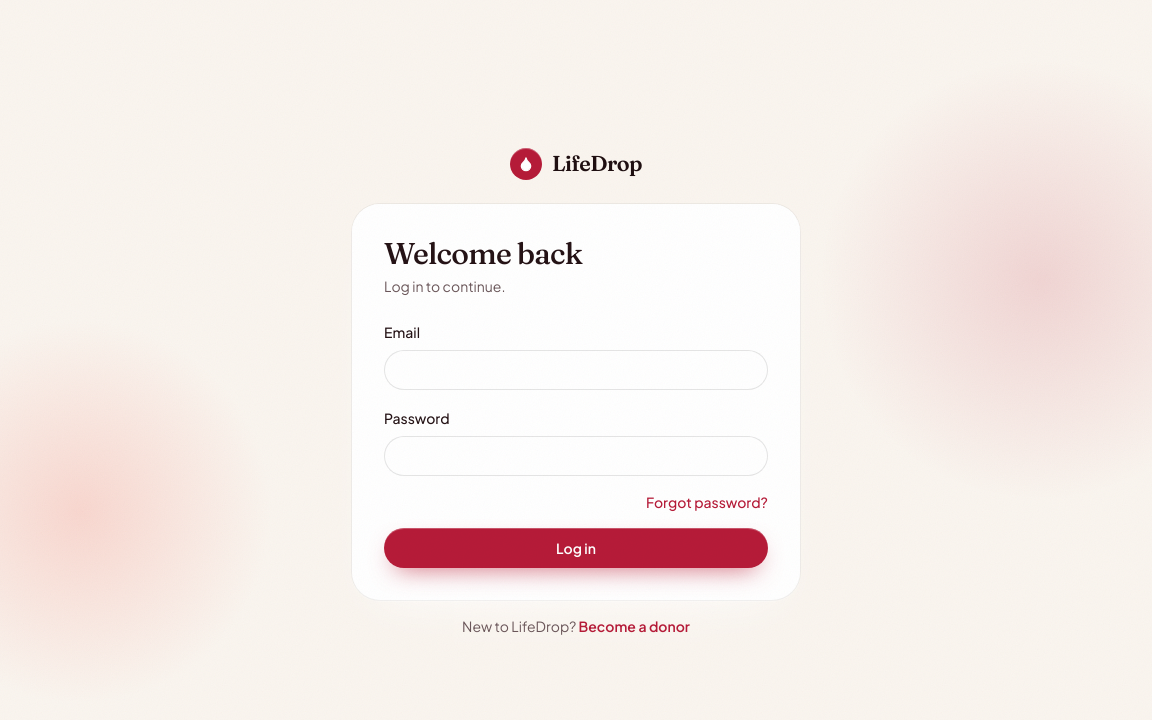
LoginPage › shows validation errors and does not call the API with empty fields
The image size is (1152, 720).
Click the button "Log in" at point(576, 548), box top-left (384, 528), bottom-right (768, 568)
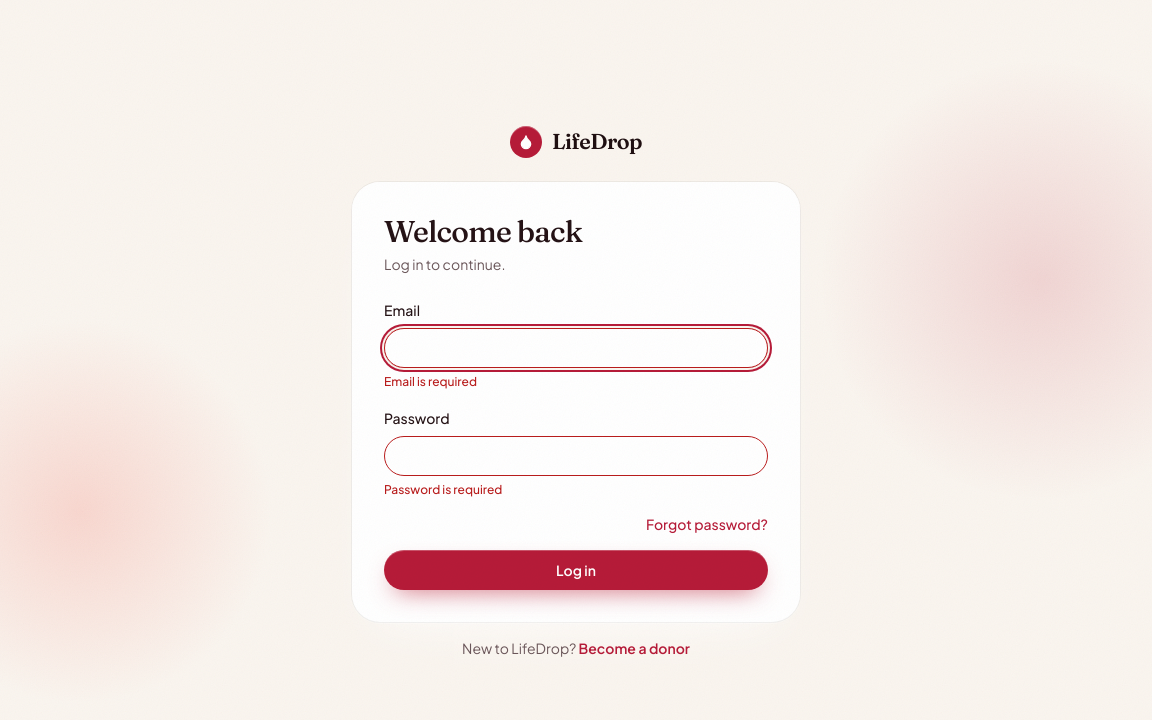
Result: the text "Email is required" is shown at top-left (384, 374), bottom-right (477, 389)
Result: the text "Password is required" is shown at top-left (384, 482), bottom-right (502, 497)
